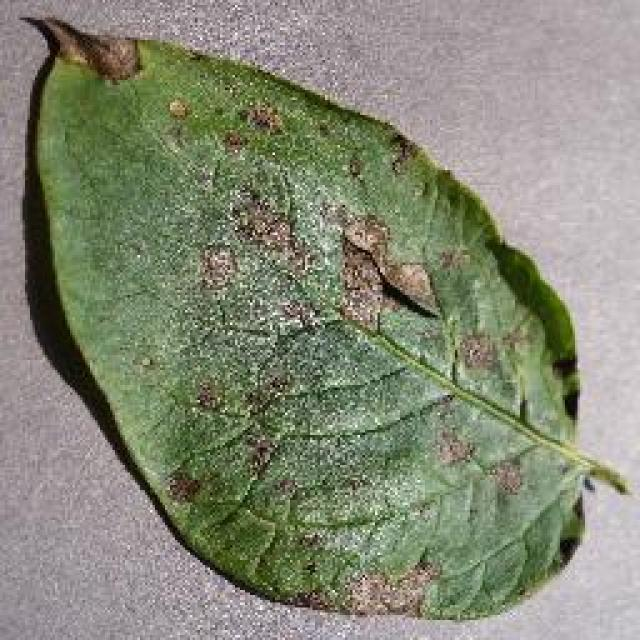Potato___Early_blight: (20, 5, 635, 640)
